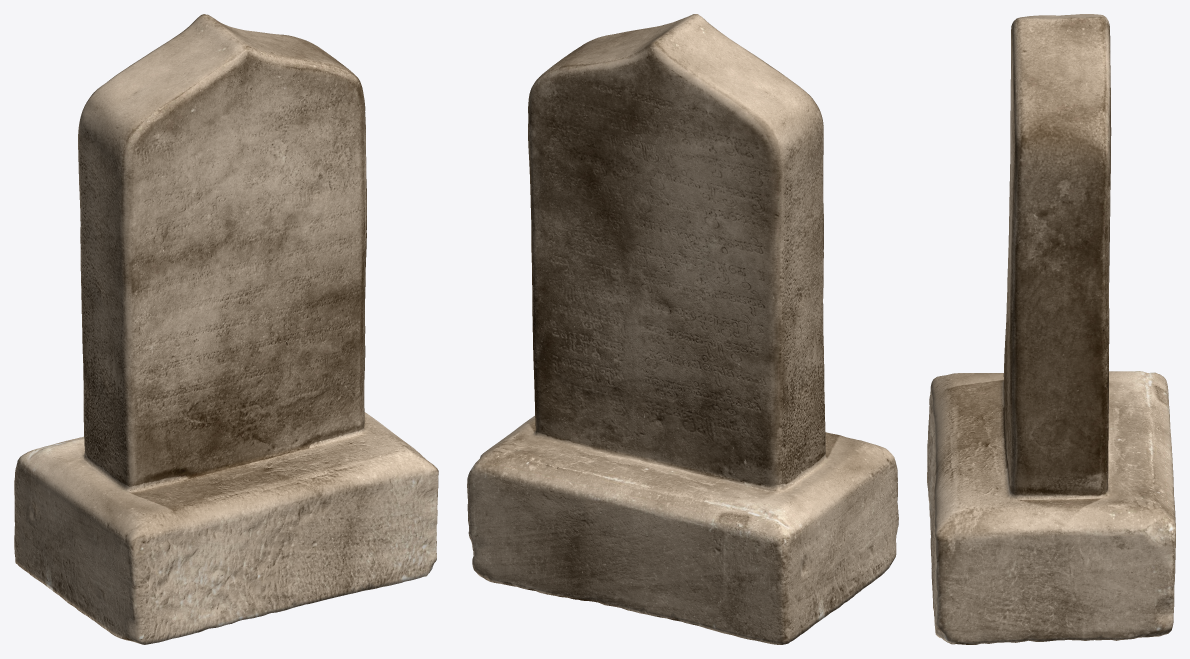
Rendered from 6_biada_final.glb.
3 renders of one model, left to right at view 1: azimuth 30°, elevation 25°; view 2: azimuth 150°, elevation 25°; view 3: azimuth 270°, elevation 25°, orthographic.
Bounding box in the file's own units: 0.6974 × 1.14 × 0.4679.
Materials: 1 (1 with a texture image).
